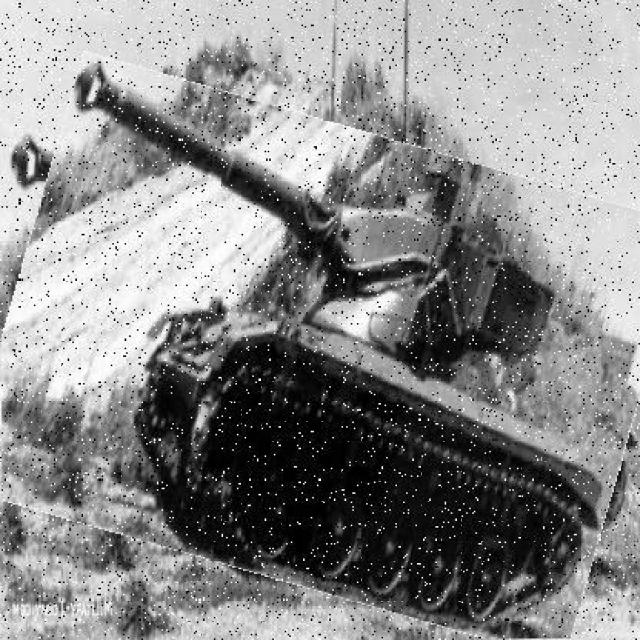Tank: (3, 90, 640, 626)
